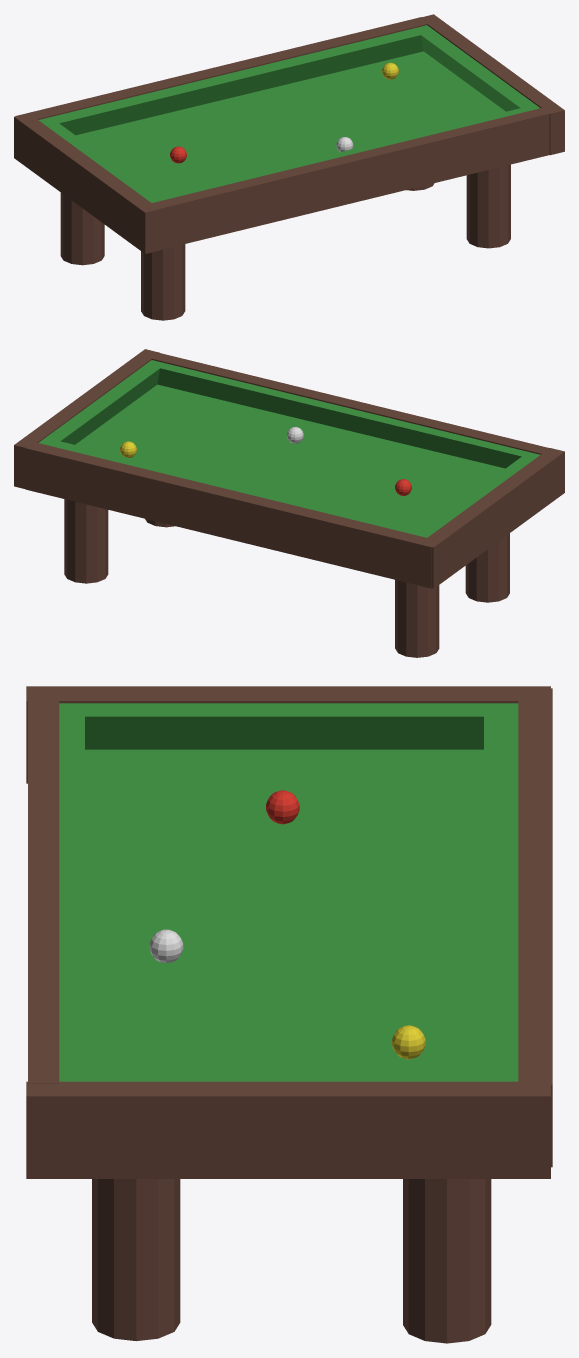
The picture shows the model from 3 angles, top to bottom: view 1: azimuth 30°, elevation 25°; view 2: azimuth 150°, elevation 25°; view 3: azimuth 270°, elevation 25°; orthographic projection. The views are drawn at different scales.
Visible parts, largest first — view 1: node_MeshObject1924296704-PolyPaper10; view 2: node_MeshObject1924296704-PolyPaper10; view 3: node_MeshObject1924296704-PolyPaper10.
Part boxes in pixels (x1,y1,x2,y2): node_MeshObject1924296704-PolyPaper10: (14, 14, 564, 320); node_MeshObject1924296704-PolyPaper10: (14, 349, 564, 657); node_MeshObject1924296704-PolyPaper10: (26, 686, 552, 1343).
Bounding box in the file's own units: 3.4 × 1.06 × 1.85.
